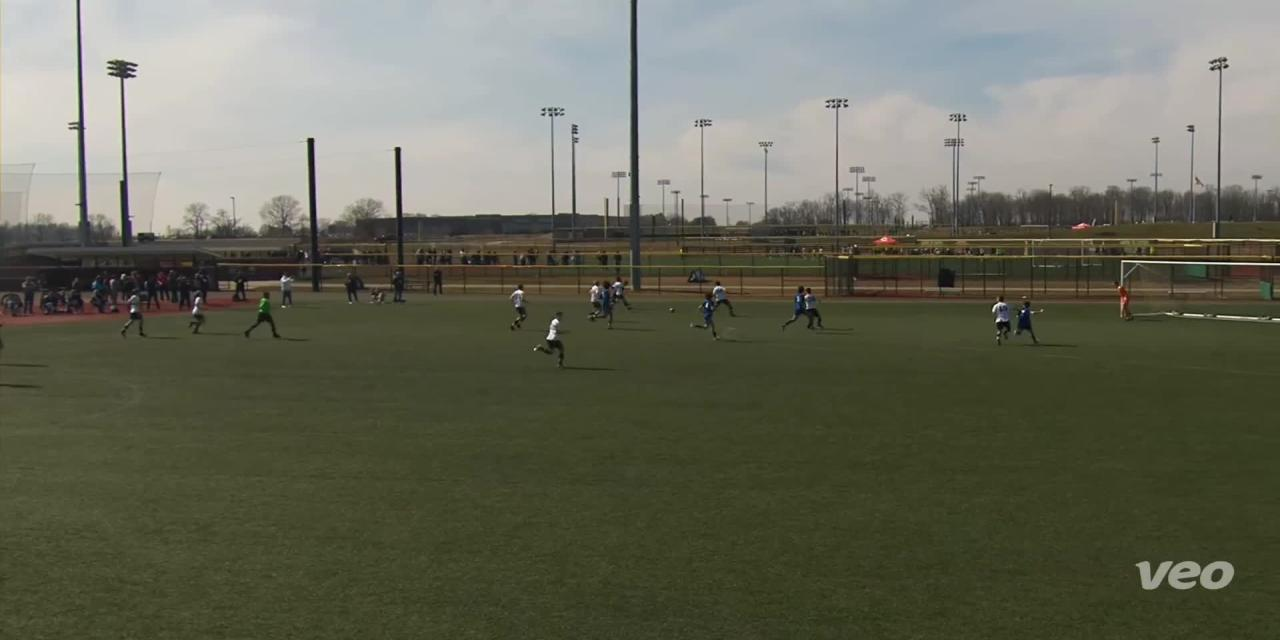goal: (1109, 248, 1280, 330)
sports ball: (664, 302, 680, 316)
